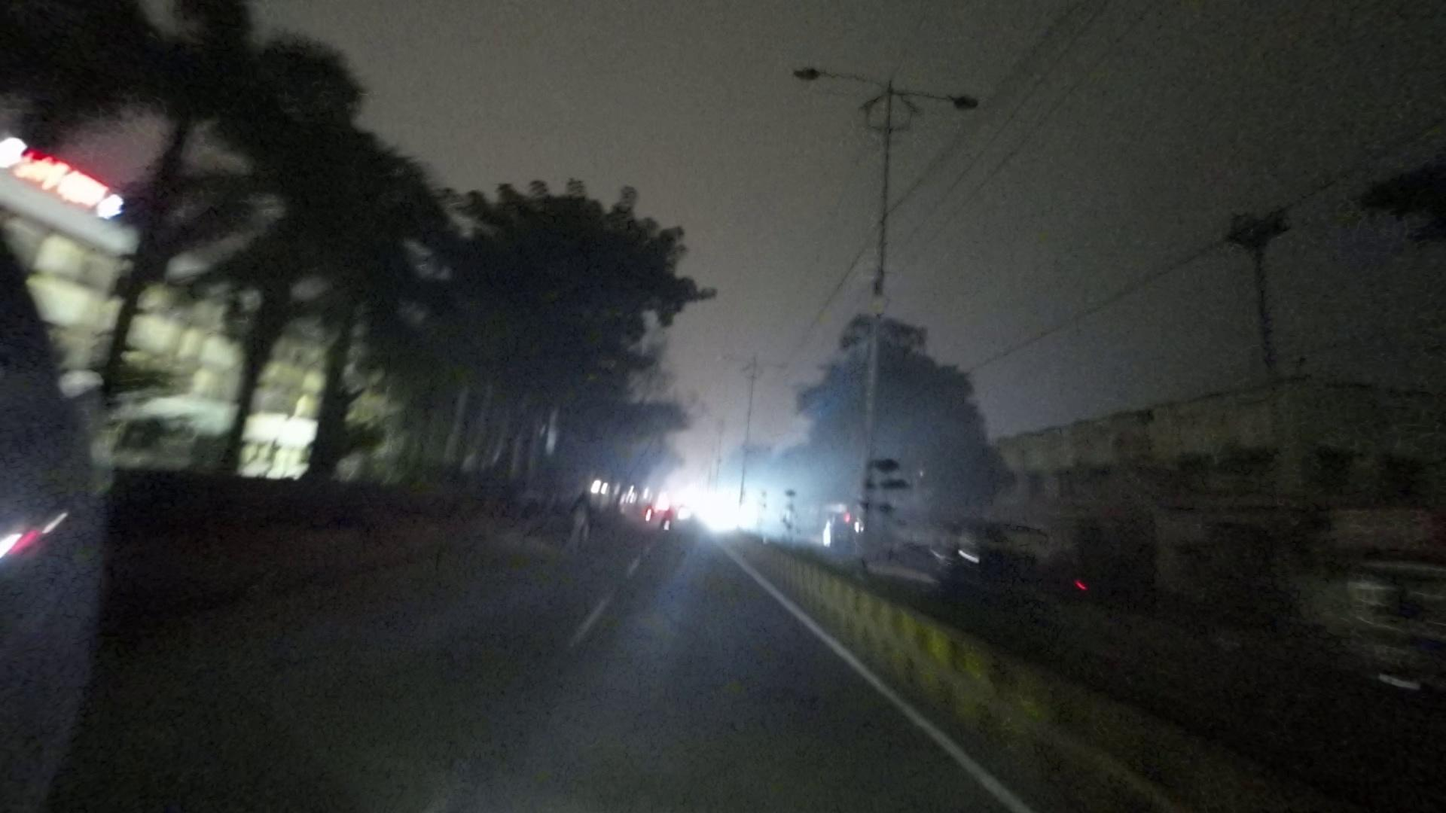streetlight: (791, 64, 887, 89), (912, 87, 982, 112)
